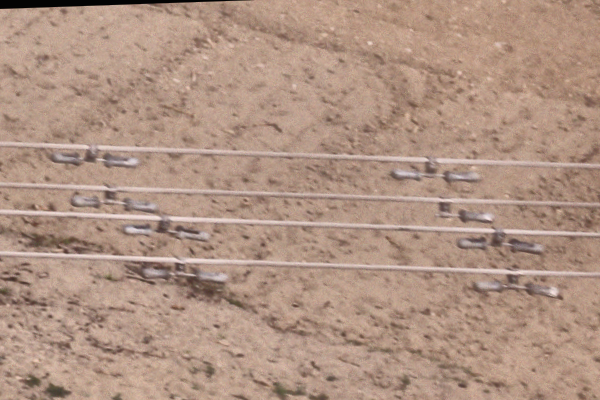damper: (137, 250, 230, 286), (467, 265, 561, 299), (388, 152, 482, 185), (456, 223, 547, 257), (68, 179, 158, 213), (120, 212, 211, 244), (46, 141, 140, 170)
damper_defect: (429, 191, 495, 223)
